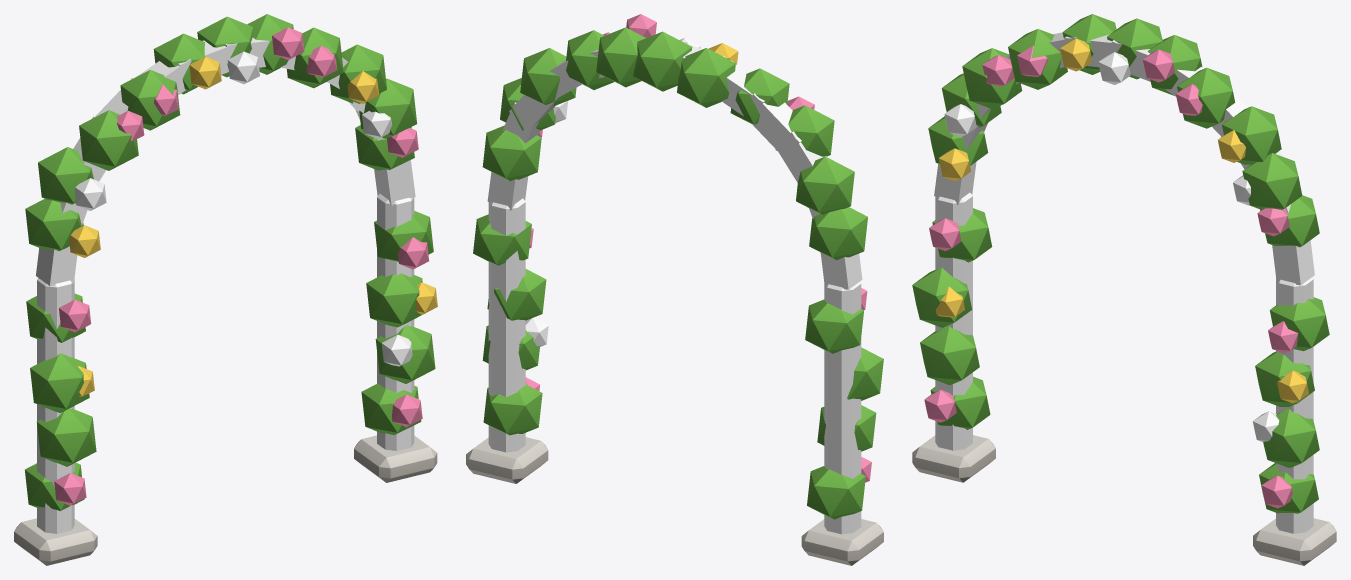
The model's file is flower_arch.glb.
3 views of the same model, side by side, from view 1: azimuth 30°, elevation 25°; view 2: azimuth 150°, elevation 25°; view 3: azimuth 330°, elevation 25° (orthographic).
Visible parts, largest first — view 1: arch_frame; view 2: arch_frame; view 3: arch_frame.
Part boxes in pixels (x1,y1,x2,y2): arch_frame: [14, 14, 437, 565]; arch_frame: [466, 14, 883, 565]; arch_frame: [912, 14, 1336, 565].
Size of the model in its own units: 1.66 by 1.92 by 0.3002.
Materials: 1 (1 with a texture image).
